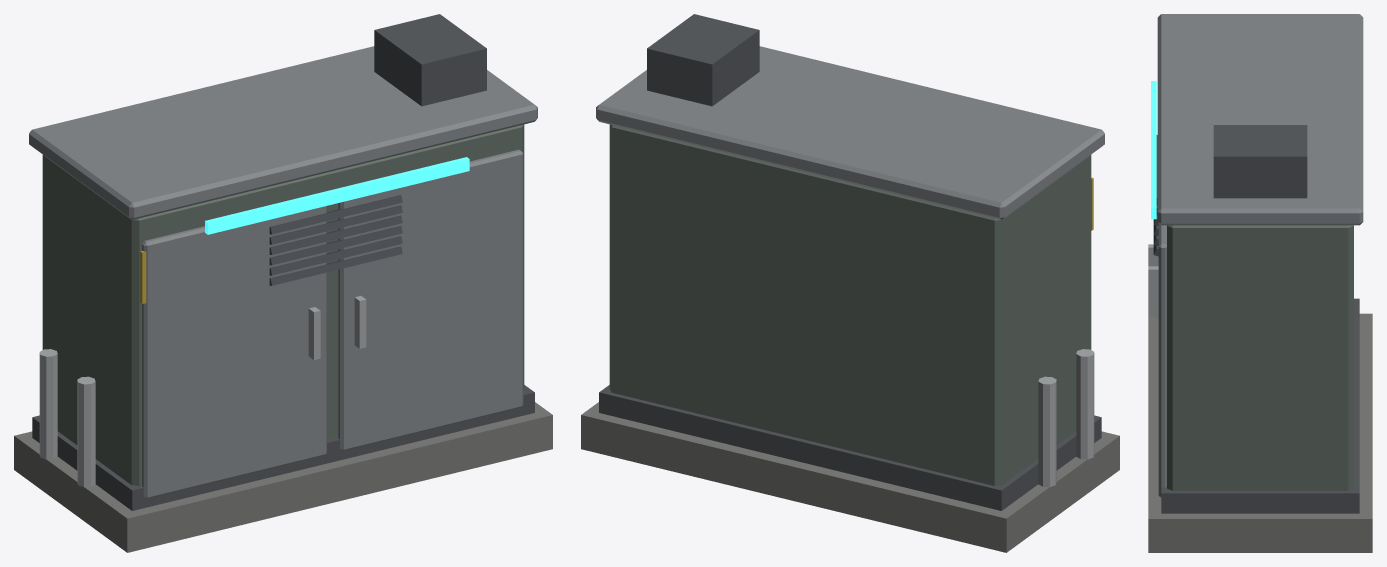
Rendered from grid_cabinet.glb.
3 views of the same model, side by side, from view 1: azimuth 30°, elevation 25°; view 2: azimuth 150°, elevation 25°; view 3: azimuth 270°, elevation 25° (orthographic).
Parts seen in each view (by area): view 1: body, status; view 2: body; view 3: body, status.
Boxes of the visible parts, box(x1,y1,x2,y2) form: body: box(14, 14, 552, 552); status: box(205, 157, 469, 234); body: box(581, 14, 1119, 552); body: box(1148, 14, 1372, 552); status: box(1151, 81, 1156, 219).
Bounding box in the file's own units: 2.67 × 2.24 × 1.2.
